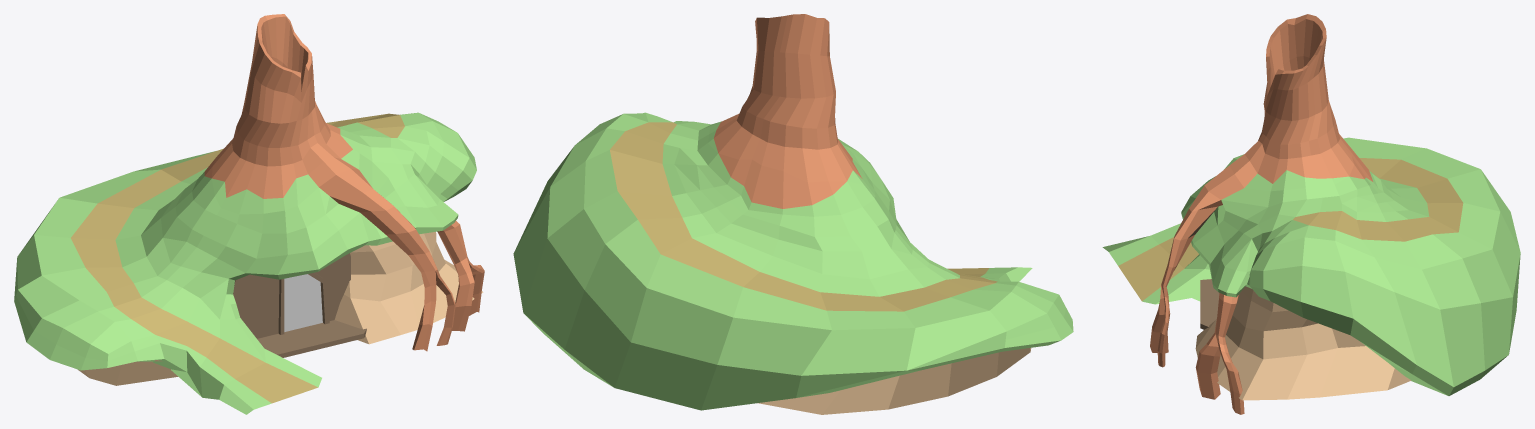
Rendered from shrek_house_01.fbx.
The picture shows the model from 3 angles, left to right: view 1: azimuth 30°, elevation 25°; view 2: azimuth 150°, elevation 25°; view 3: azimuth 270°, elevation 25°; orthographic projection. The views are drawn at different scales.
Visible parts, largest first — view 1: Cylinder, Cylinder.001, door; view 2: Cylinder, Cylinder.001; view 3: Cylinder, Cylinder.001.
Part boxes in pixels (<box>): Cylinder: <box>14,14,484,414</box>; Cylinder.001: <box>78,232,483,385</box>; door: <box>284,274,322,331</box>; Cylinder: <box>513,14,1073,410</box>; Cylinder.001: <box>757,348,1031,414</box>; Cylinder: <box>1102,14,1520,414</box>; Cylinder.001: <box>1195,286,1411,400</box>.
Size of the model in its own units: 2790 by 1808 by 2195.
